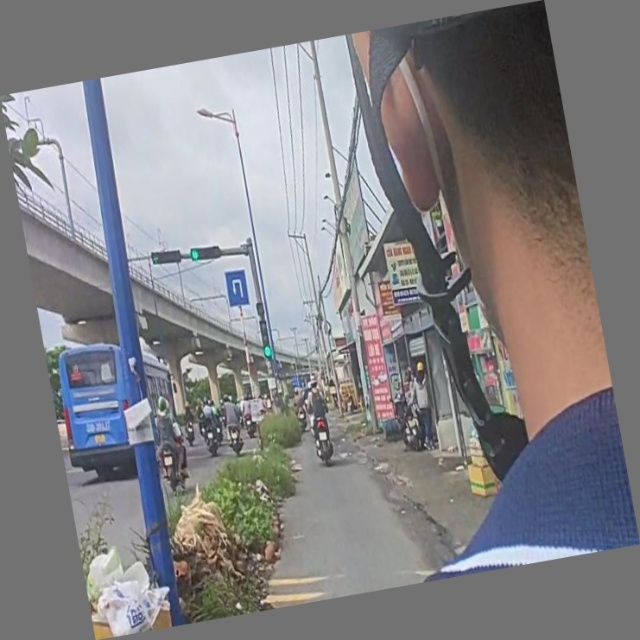I.409: (223, 267, 253, 310)
